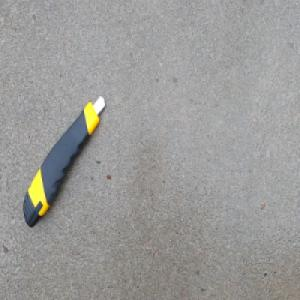Cutter: (23, 90, 106, 226)
